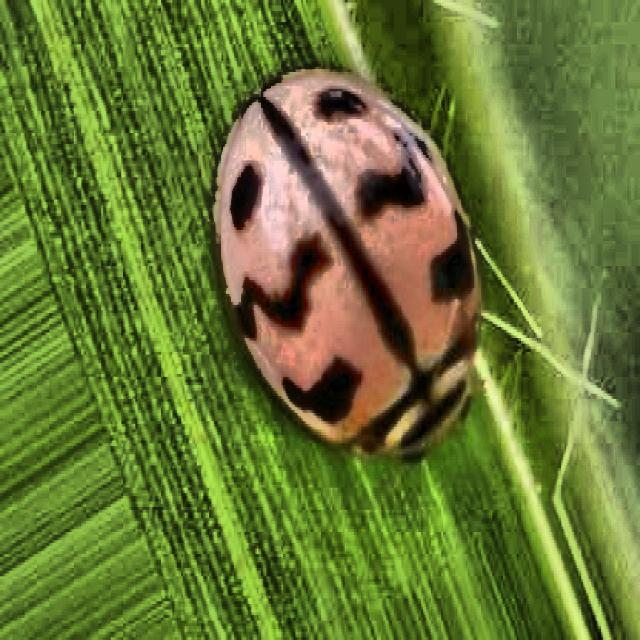Asian-Lady-beetle: (164, 18, 508, 492)
